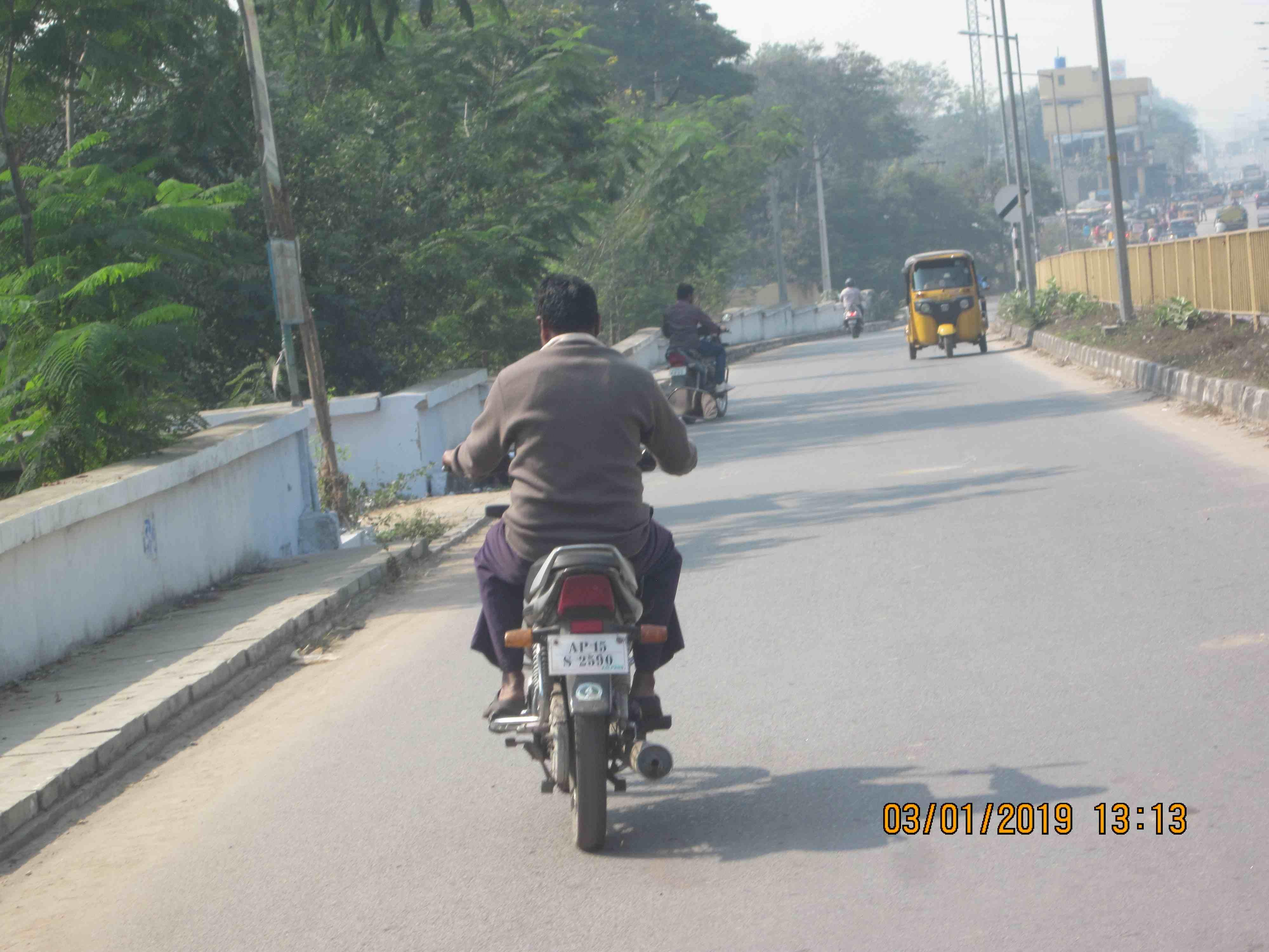plate: (537, 620, 653, 691)
